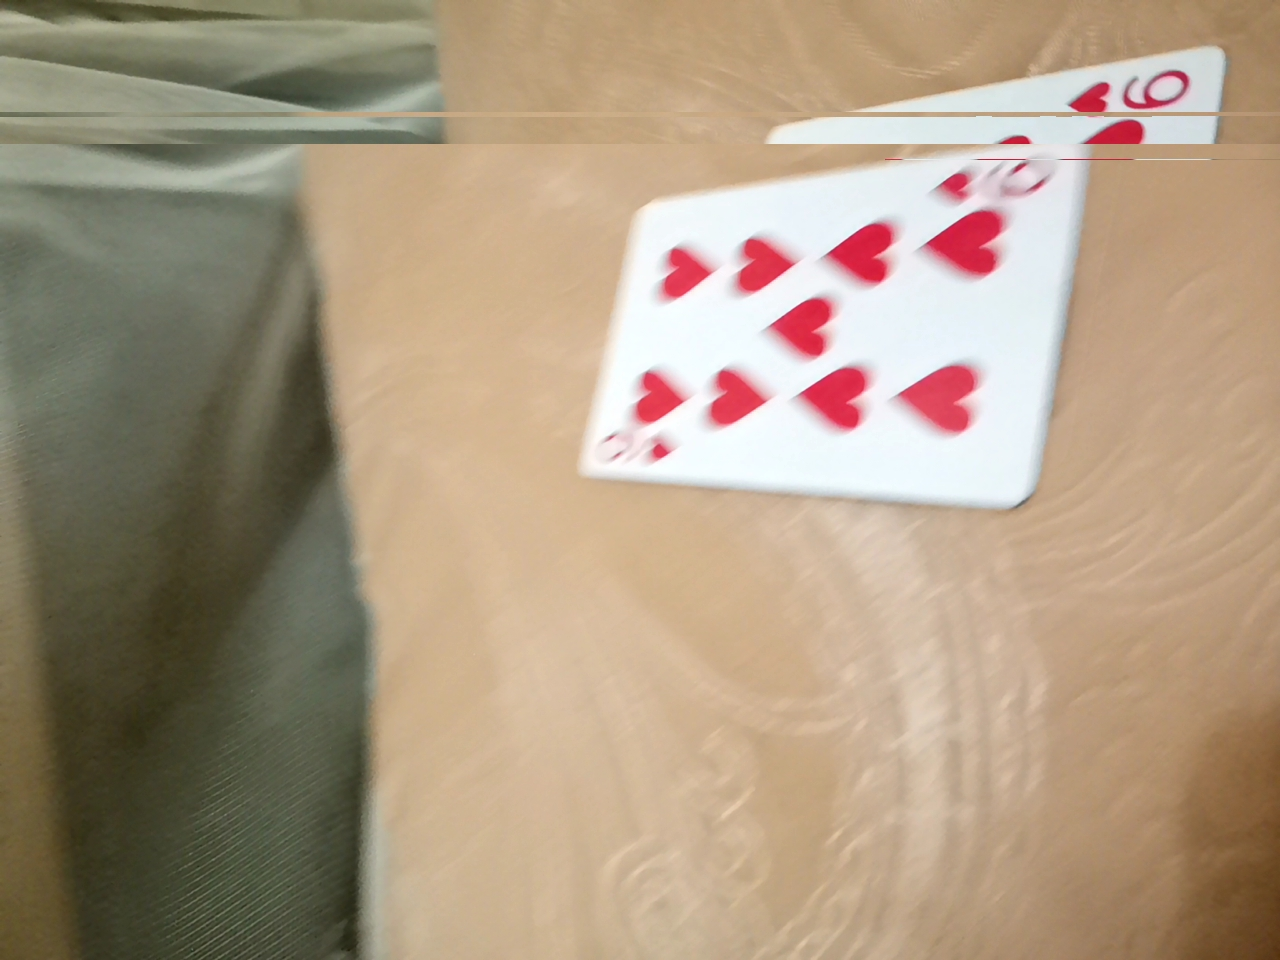hx 9: (724, 69, 1198, 413)
